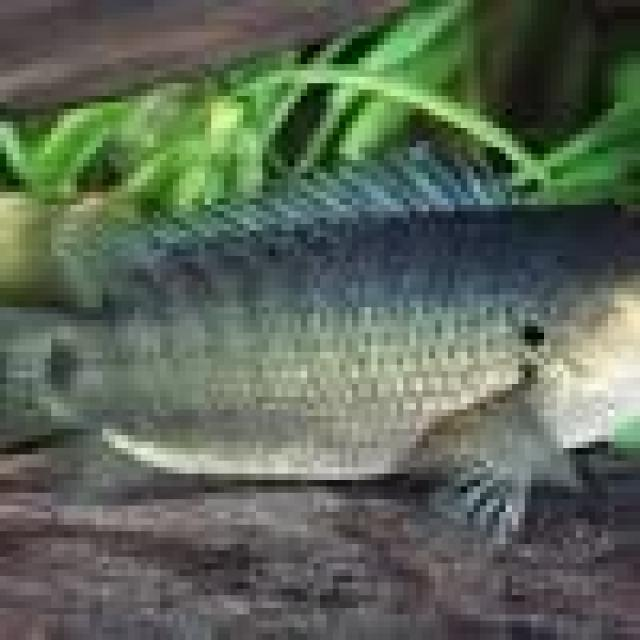Climbing-Perch: (0, 160, 640, 538)
